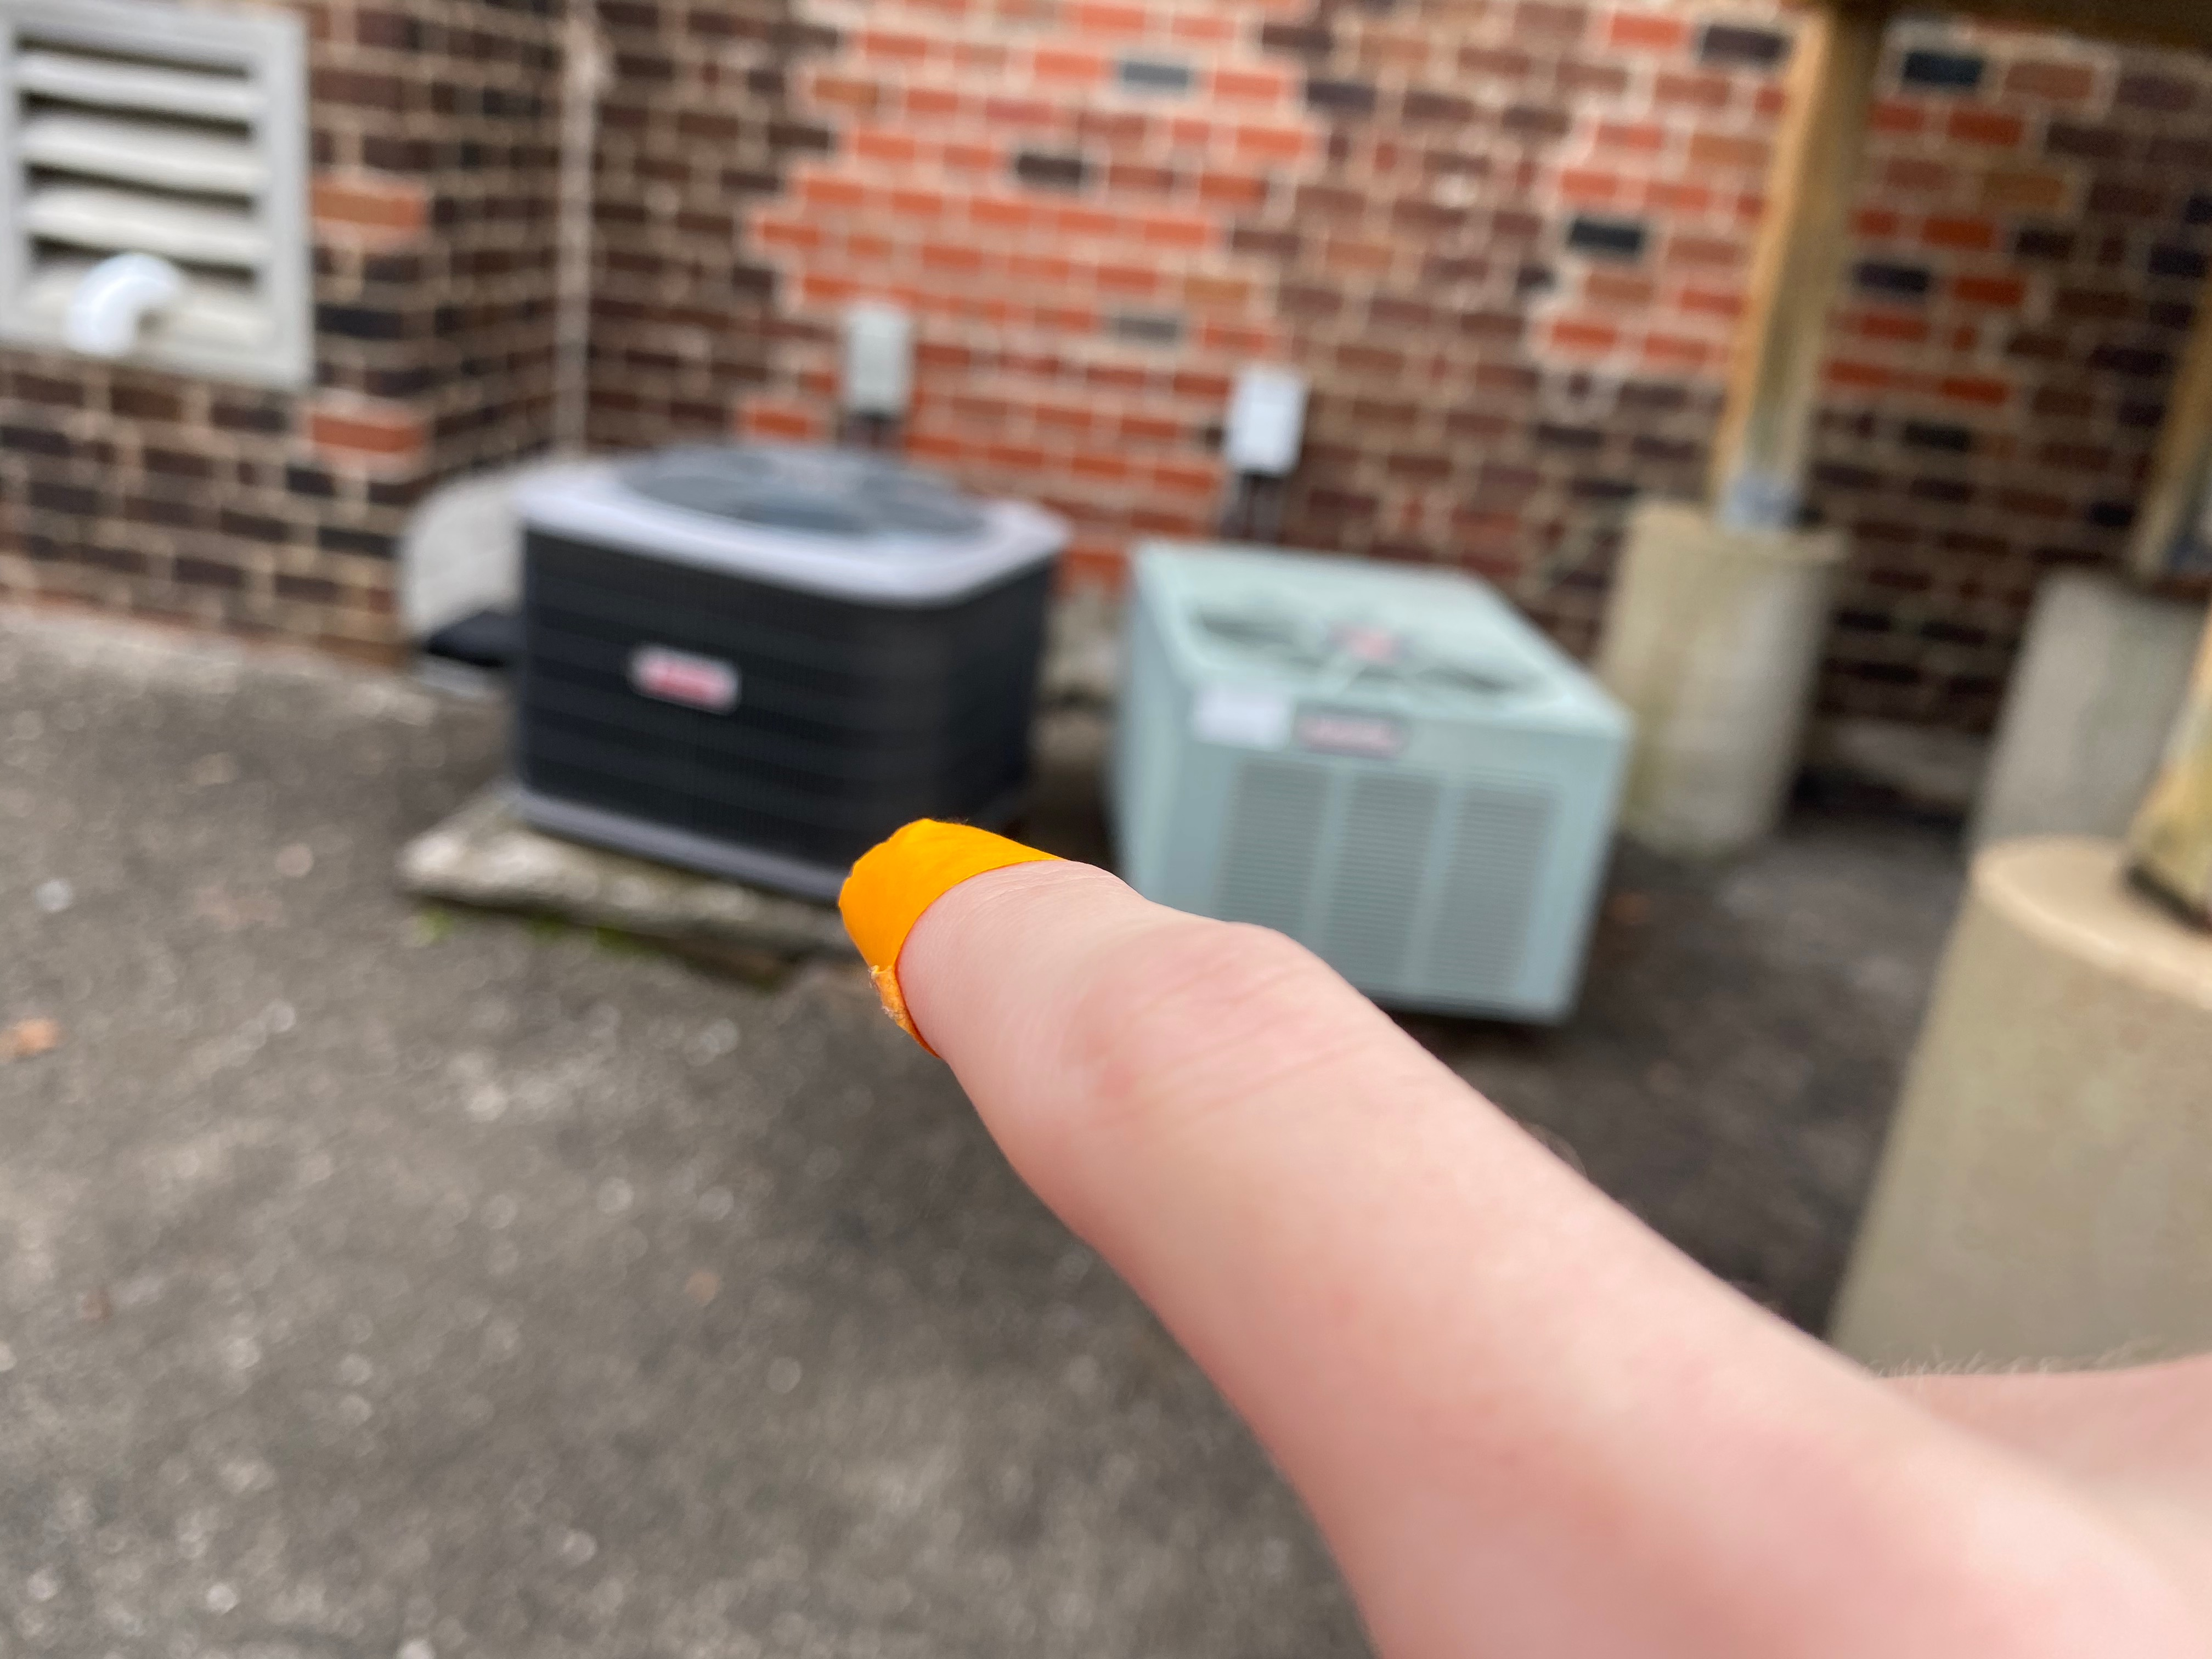fingertip: (803, 814, 1075, 1065)
